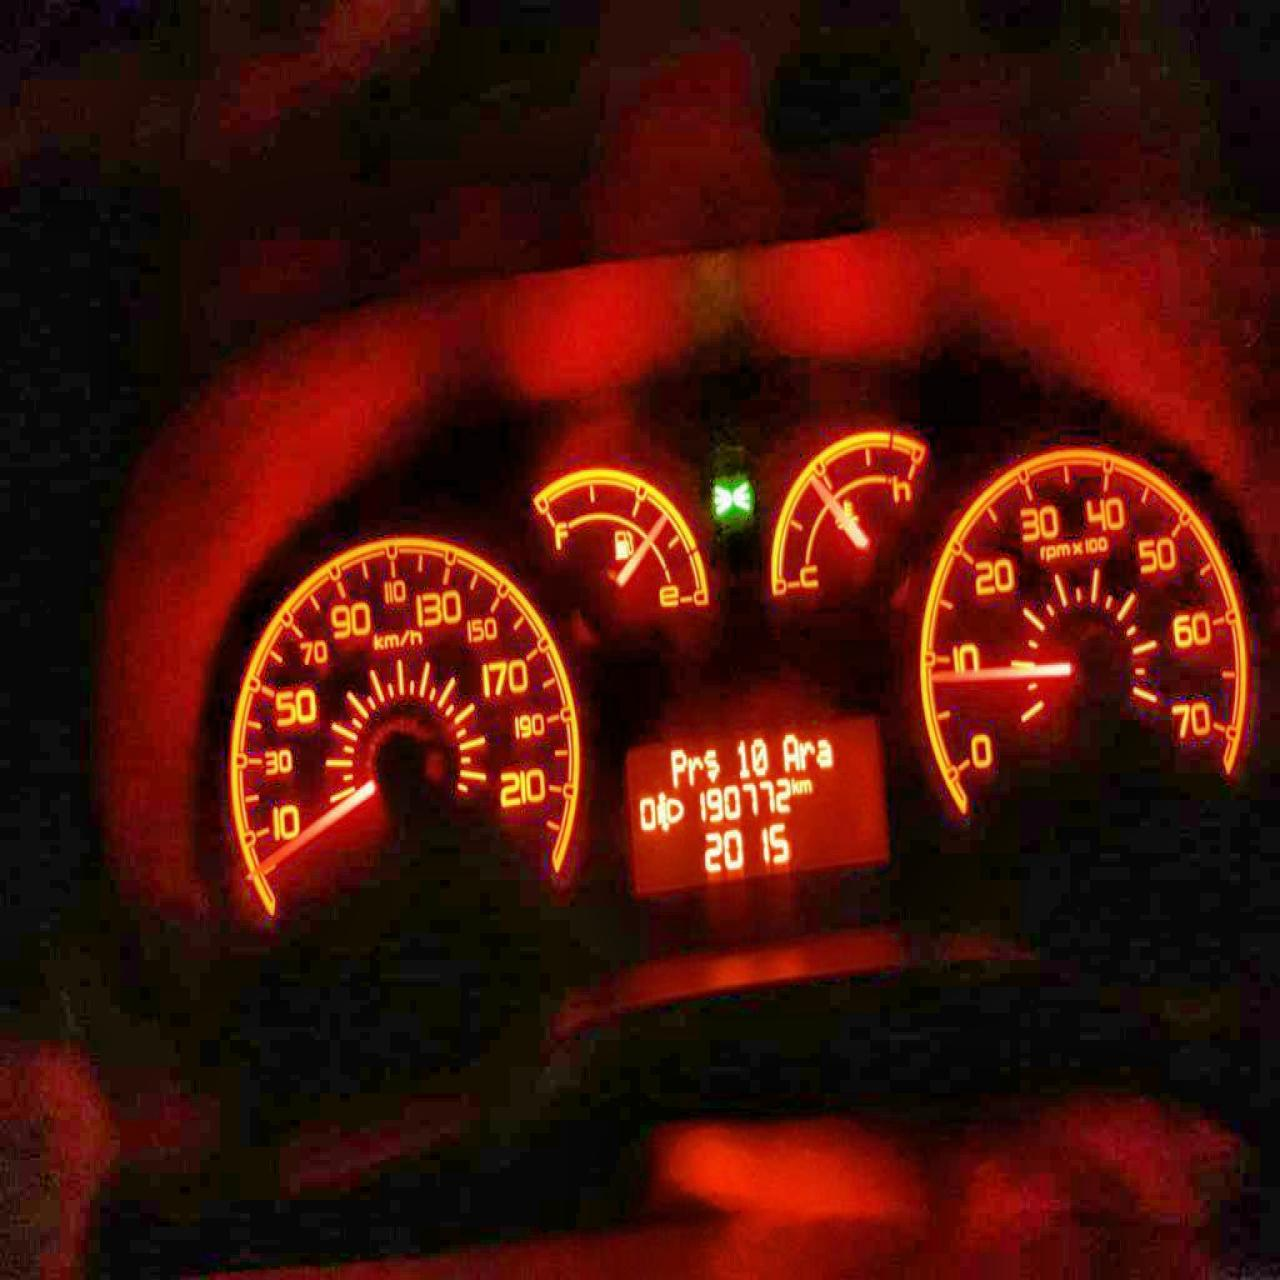0: (722, 826, 743, 870), (749, 735, 769, 775), (722, 783, 740, 819), (638, 795, 655, 830)
1: (734, 737, 749, 781), (760, 823, 769, 866), (697, 788, 704, 825)
2: (703, 830, 722, 872), (775, 775, 790, 813)
5: (770, 821, 789, 865)
7: (757, 778, 775, 813), (742, 782, 757, 817)
9: (706, 785, 723, 822)
X: (669, 747, 685, 788), (782, 734, 798, 771), (816, 737, 832, 768), (704, 748, 720, 779), (799, 740, 815, 770), (687, 755, 702, 785), (798, 776, 812, 791), (790, 775, 799, 795)
odometer: (619, 710, 893, 897)
